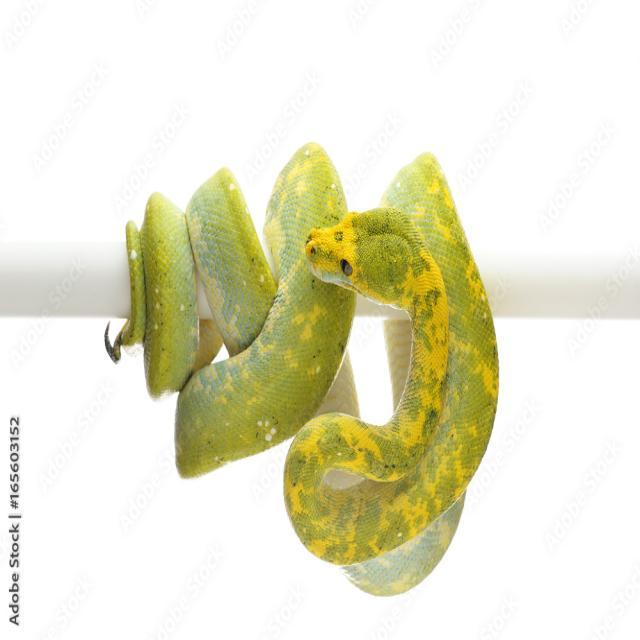Snake: (92, 154, 502, 604)
